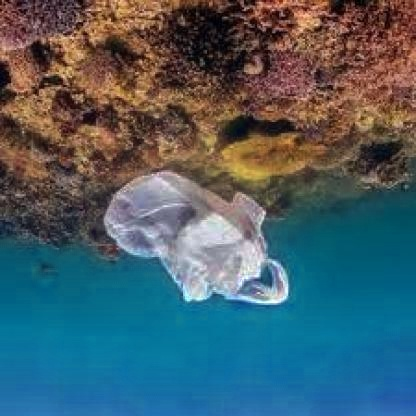pbag: (104, 170, 290, 309)
